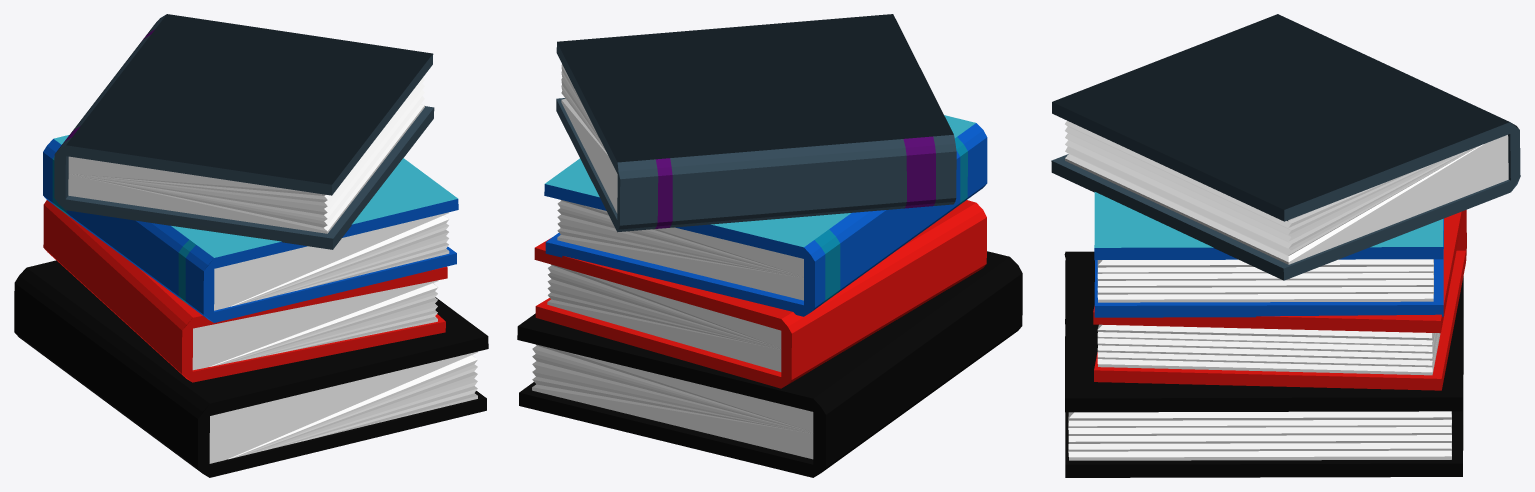
The model's file is books.fbx.
The picture shows the model from 3 angles, left to right: view 1: azimuth 30°, elevation 25°; view 2: azimuth 150°, elevation 25°; view 3: azimuth 270°, elevation 25°; orthographic projection. The views are drawn at different scales.
Size of the model in its own units: 0.8628 by 0.5972 by 0.8581.
